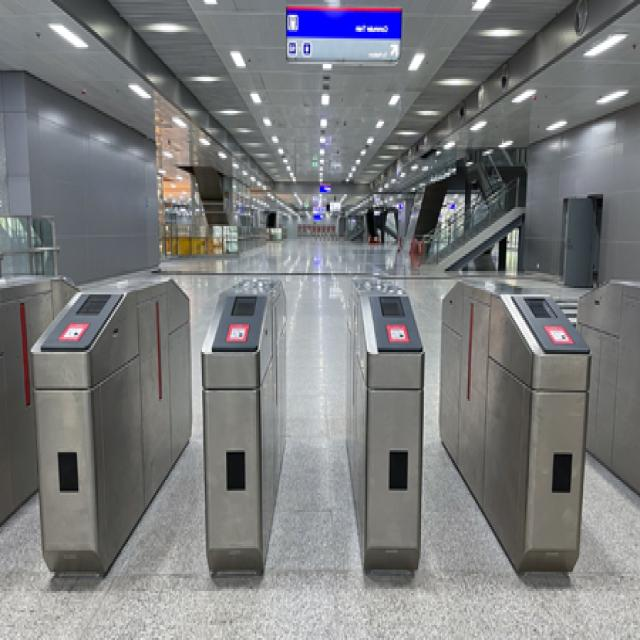torniquete: (31, 291, 145, 575), (482, 294, 590, 572), (202, 279, 286, 573), (346, 279, 425, 570)
